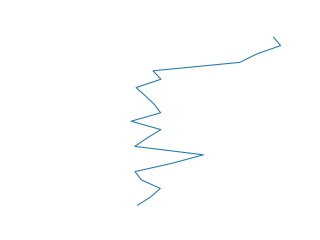crevasseRiverChannelBar: (124, 34, 286, 210)
